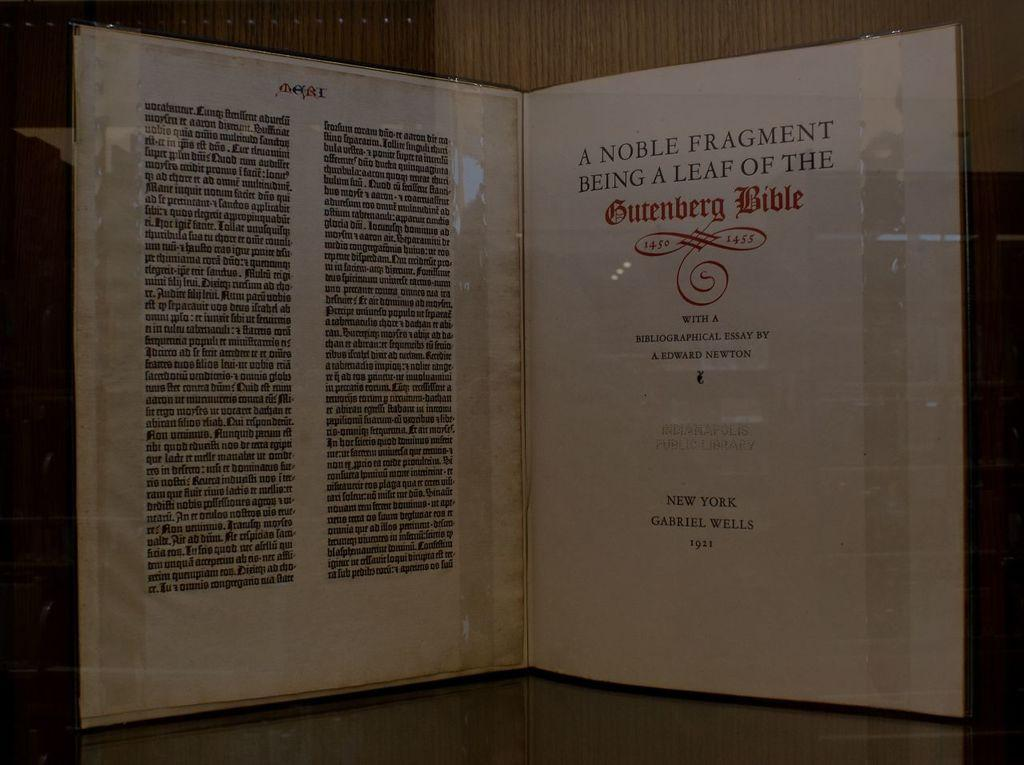book: (54, 37, 998, 736)
